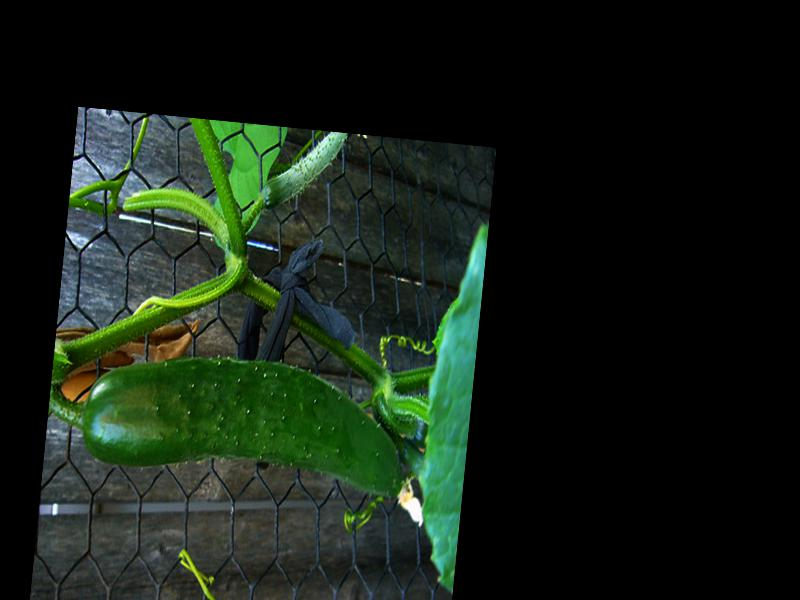Cucumber: (78, 341, 411, 499)
